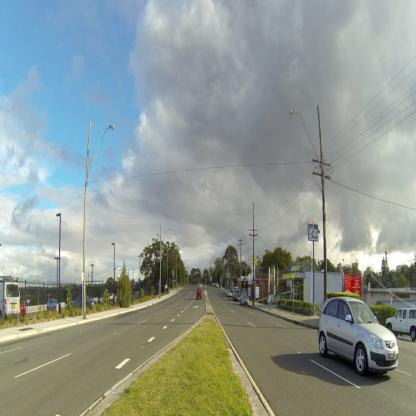Car: (316, 295, 399, 377), (238, 294, 248, 304), (196, 285, 200, 295)
